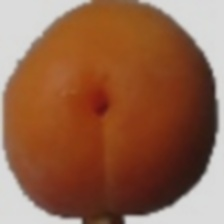apricot: (16, 14, 168, 205)
